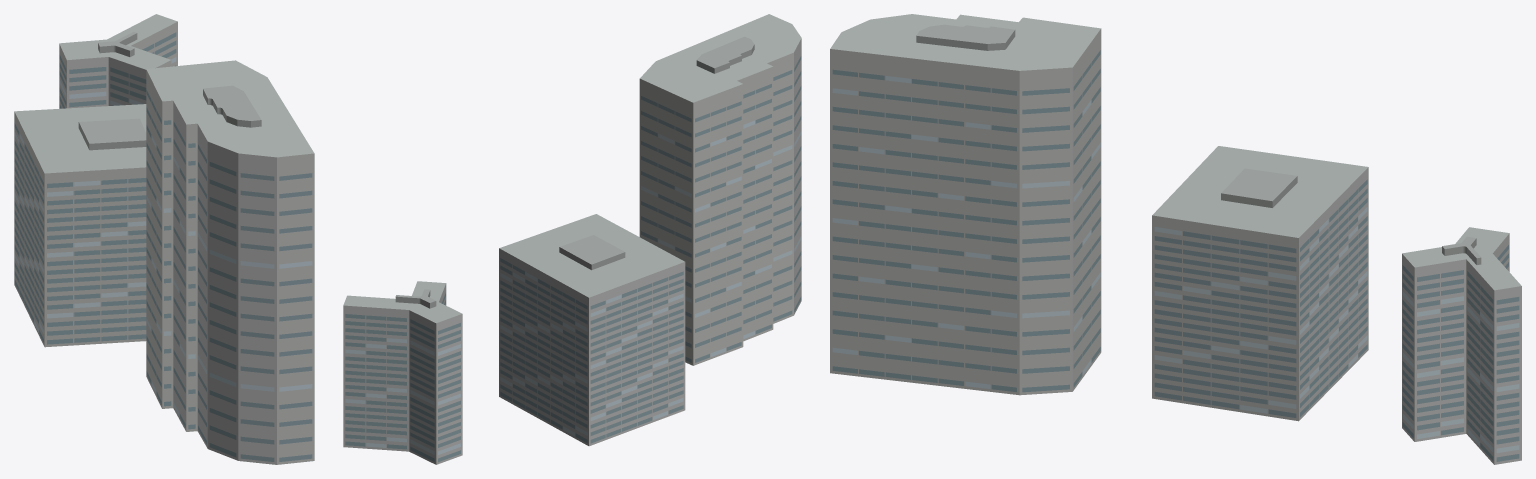
The model's file is apt-a13475001.glb.
The picture shows the model from 3 angles, left to right: view 1: azimuth 30°, elevation 25°; view 2: azimuth 150°, elevation 25°; view 3: azimuth 270°, elevation 25°; orthographic projection. The views are drawn at different scales.
Parts seen in each view (by area): view 1: apt-a13475001; view 2: apt-a13475001; view 3: apt-a13475001.
Part boxes in pixels (left/top/right/bottom): apt-a13475001: left=14, top=14, right=314, bottom=464; apt-a13475001: left=343, top=14, right=801, bottom=464; apt-a13475001: left=830, top=14, right=1521, bottom=464.
Size of the model in its own units: 101 by 115 by 218.
